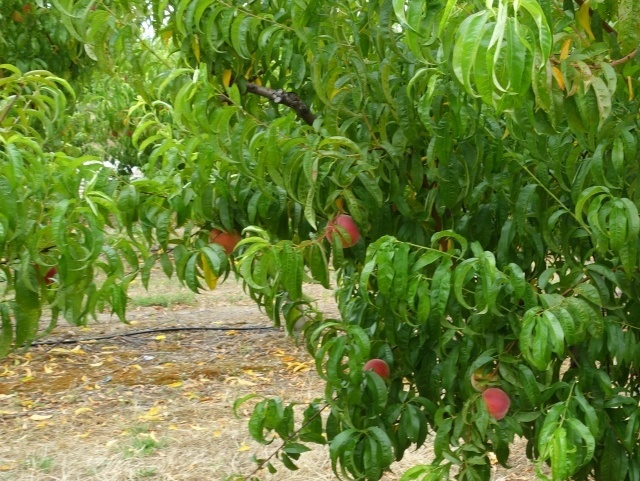peach: (476, 385, 513, 423), (322, 214, 363, 248), (204, 224, 244, 257), (361, 355, 391, 381)
